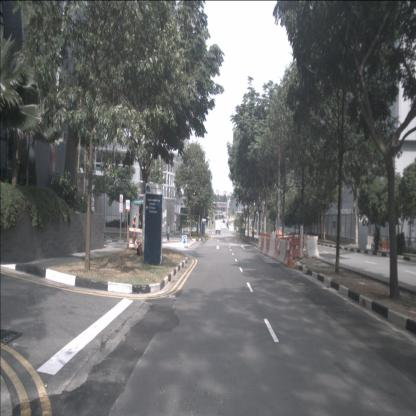human-pedestrian-adult: (166, 223, 170, 242), (173, 221, 176, 235), (181, 222, 184, 232), (178, 222, 181, 231)
movable_object-barrier: (280, 236, 305, 258), (276, 236, 288, 264), (282, 240, 294, 266), (306, 236, 320, 257), (267, 238, 277, 258), (259, 232, 271, 246), (380, 239, 392, 252), (264, 237, 272, 256), (273, 239, 280, 260), (366, 236, 376, 250), (303, 235, 310, 251), (262, 236, 268, 254), (260, 236, 266, 252), (257, 235, 262, 252)
movable_object-trafficcone: (287, 247, 295, 267)
vehicle-truck: (215, 220, 221, 234)
